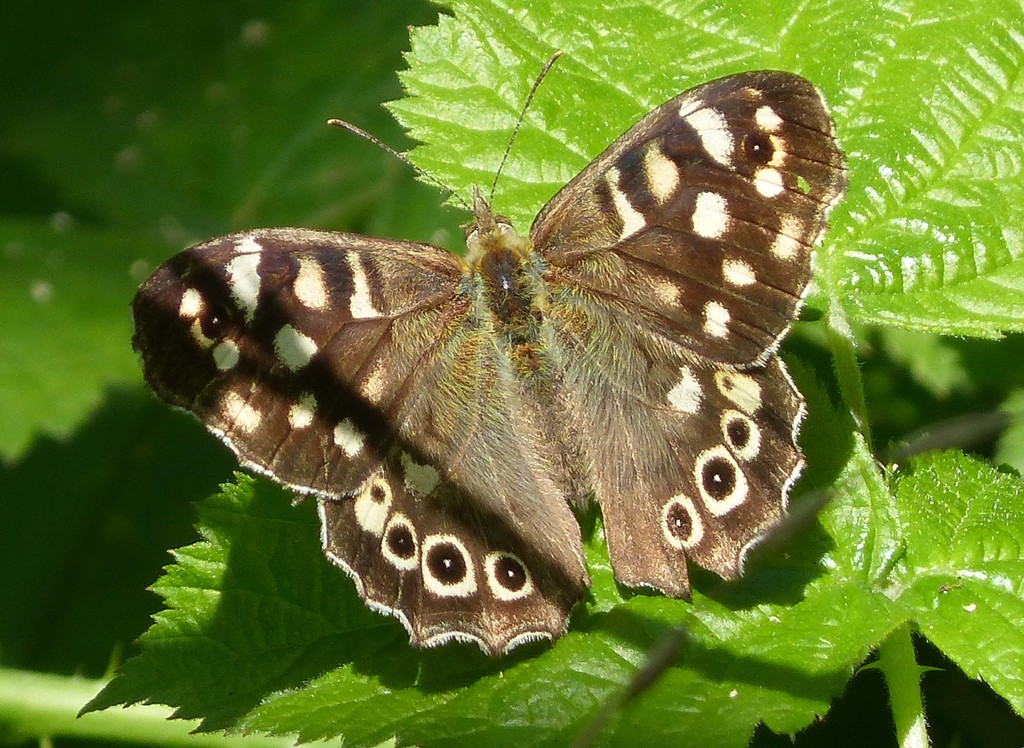Butterfly: (116, 52, 857, 680)
